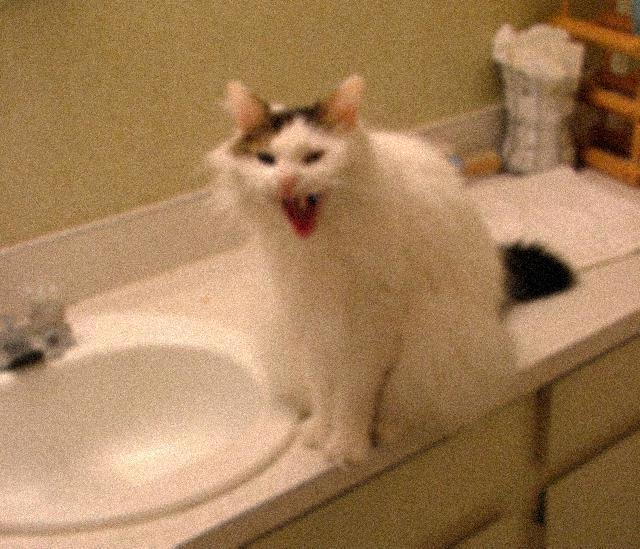Lavamanos: (0, 250, 292, 524)
Otro Obstaculo: (218, 93, 563, 472)
